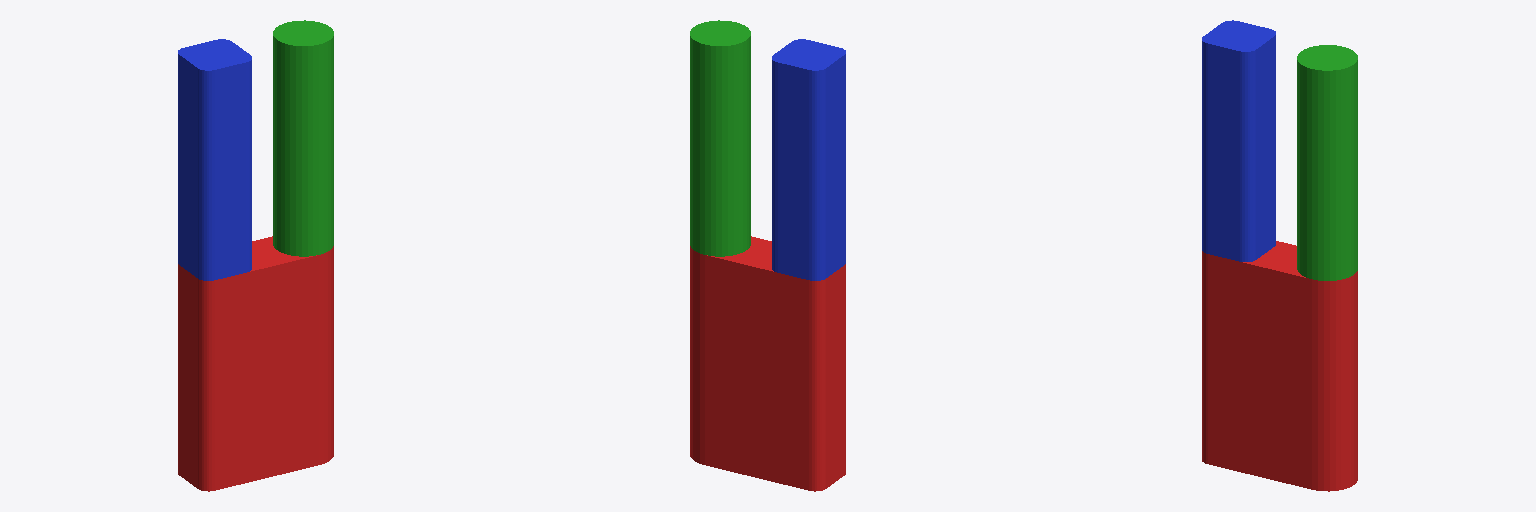
URDF robot description (peg_41_coacd):
<?xml version="1.0" encoding="utf-8"?>
<robot name="peg_41_coacd">
  <link name="base_link">
    <inertial>
      <mass value="0.05"/>
      <inertia ixx="1e-5" ixy="0" ixz="0" iyy="1e-5" iyz="0" izz="1e-5"/>
    </inertial>
  </link>
  <material name="color_0">
    <color rgba="0.9 0.2 0.2 1.0"/>
  </material>
  <link name="hull_0">
    <inertial>
      <mass value="0.001"/>
      <inertia ixx="1e-6" ixy="0" ixz="0" iyy="1e-6" iyz="0" izz="1e-6"/>
    </inertial>
    <visual>
      <origin xyz="0 0 0" rpy="0 0 0"/>
      <geometry>
        <mesh filename="decomp_0.obj" scale="1 1 1"/>
      </geometry>
      <material name="color_0"/>
    </visual>
    <collision>
      <origin xyz="0 0 0" rpy="0 0 0"/>
      <geometry>
        <mesh filename="decomp_0.obj" scale="1 1 1"/>
      </geometry>
    </collision>
  </link>
  <joint name="hull_joint_0" type="fixed">
    <parent link="base_link"/>
    <child link="hull_0"/>
    <origin xyz="0 0 0" rpy="0 0 0"/>
  </joint>
  <material name="color_1">
    <color rgba="0.2 0.7 0.2 1.0"/>
  </material>
  <link name="hull_1">
    <inertial>
      <mass value="0.001"/>
      <inertia ixx="1e-6" ixy="0" ixz="0" iyy="1e-6" iyz="0" izz="1e-6"/>
    </inertial>
    <visual>
      <origin xyz="0 0 0" rpy="0 0 0"/>
      <geometry>
        <mesh filename="decomp_1.obj" scale="1 1 1"/>
      </geometry>
      <material name="color_1"/>
    </visual>
    <collision>
      <origin xyz="0 0 0" rpy="0 0 0"/>
      <geometry>
        <mesh filename="decomp_1.obj" scale="1 1 1"/>
      </geometry>
    </collision>
  </link>
  <joint name="hull_joint_1" type="fixed">
    <parent link="base_link"/>
    <child link="hull_1"/>
    <origin xyz="0 0 0" rpy="0 0 0"/>
  </joint>
  <material name="color_2">
    <color rgba="0.2 0.3 0.9 1.0"/>
  </material>
  <link name="hull_2">
    <inertial>
      <mass value="0.001"/>
      <inertia ixx="1e-6" ixy="0" ixz="0" iyy="1e-6" iyz="0" izz="1e-6"/>
    </inertial>
    <visual>
      <origin xyz="0 0 0" rpy="0 0 0"/>
      <geometry>
        <mesh filename="decomp_2.obj" scale="1 1 1"/>
      </geometry>
      <material name="color_2"/>
    </visual>
    <collision>
      <origin xyz="0 0 0" rpy="0 0 0"/>
      <geometry>
        <mesh filename="decomp_2.obj" scale="1 1 1"/>
      </geometry>
    </collision>
  </link>
  <joint name="hull_joint_2" type="fixed">
    <parent link="base_link"/>
    <child link="hull_2"/>
    <origin xyz="0 0 0" rpy="0 0 0"/>
  </joint>
</robot>

--- Render facts (derived) ---
3 views of the same robot in one strip: view 1: azimuth 30°, elevation 25°; view 2: azimuth 150°, elevation 25°; view 3: azimuth 330°, elevation 25° (orthographic).
Robot: peg_41_coacd — 4 links, 3 joints (3 fixed); root link base_link; default pose: all joints at 0.
Links seen in each view (by area): view 1: hull_0, hull_2, hull_1; view 2: hull_0, hull_2, hull_1; view 3: hull_0, hull_2, hull_1.
Boxes of the visible links, left/top/right/bottom form: hull_0: left=178, top=236, right=333, bottom=491; hull_2: left=178, top=39, right=251, bottom=280; hull_1: left=273, top=20, right=333, bottom=256; hull_0: left=690, top=236, right=845, bottom=491; hull_2: left=772, top=39, right=845, bottom=280; hull_1: left=690, top=20, right=750, bottom=256; hull_0: left=1202, top=241, right=1357, bottom=491; hull_2: left=1202, top=20, right=1275, bottom=261; hull_1: left=1297, top=45, right=1357, bottom=280.
Size in the robot's own frame: 0.0528 by 0.0198 by 0.15 metres.
Meshes: 3 distinct files referenced, 3 mesh visuals loaded (3 OBJ).
